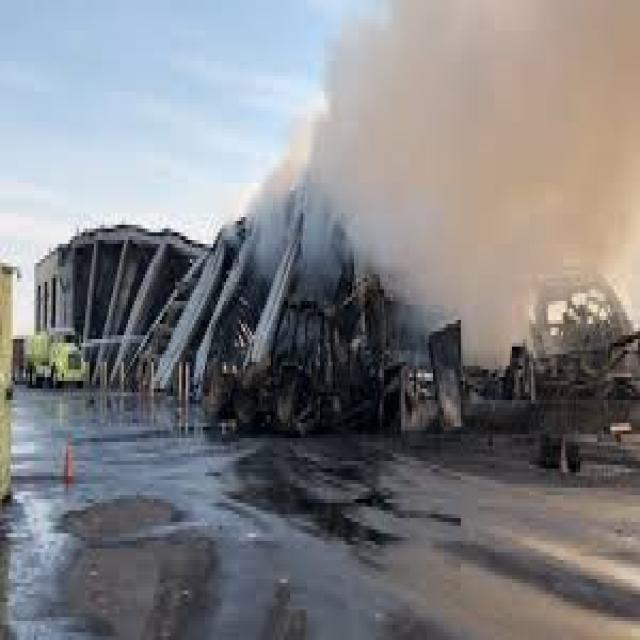Smoke: (243, 0, 640, 377)
